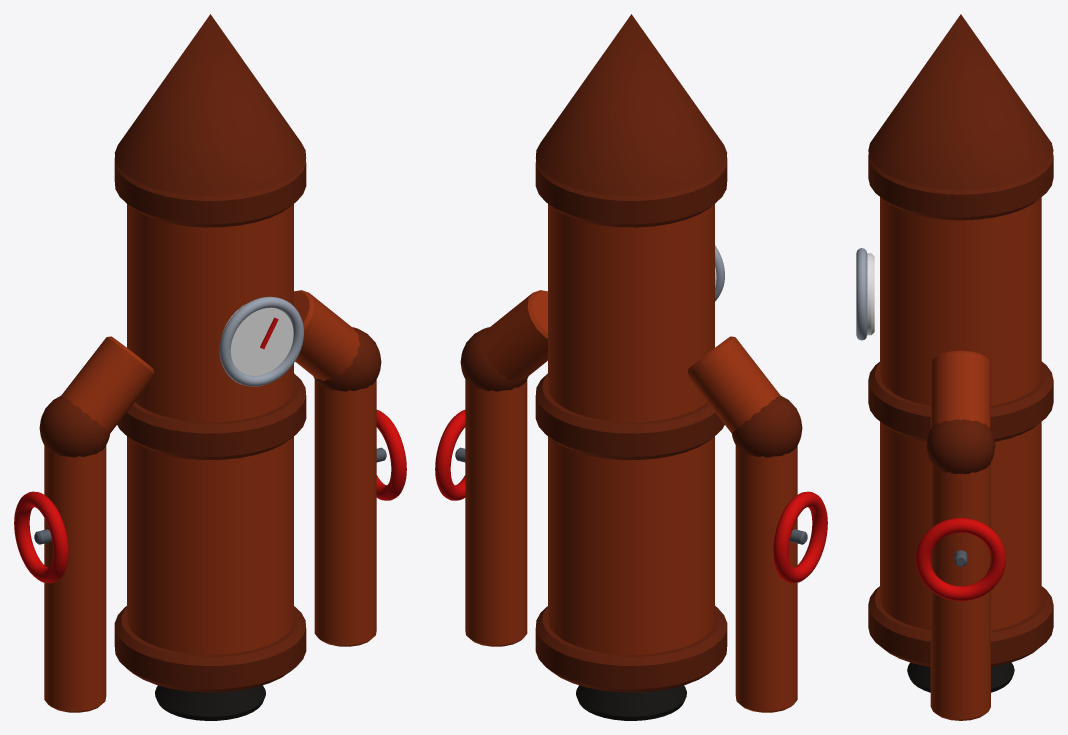
File: Rocket_09_PlumberPipes.obj
The picture shows the model from 3 angles, left to right: view 1: azimuth 30°, elevation 25°; view 2: azimuth 150°, elevation 25°; view 3: azimuth 270°, elevation 25°; orthographic projection. The views are drawn at different scales.
Visible parts, largest first — view 1: R09_Body, R09_Nose, R09_SidePipe, R09_SidePipe_2, R09_Coupler, R09_Coupler_2, R09_Coupler_3, R09_Elbow_2, R09_Elbow, R09_Gauge, R09_Joint_2, R09_Valve_2 (+4 smaller); view 2: R09_Body, R09_Nose, R09_SidePipe, R09_SidePipe_2, R09_Coupler, R09_Coupler_2, R09_Coupler_3, R09_Elbow_2, R09_Elbow, R09_Joint_2, R09_Valve_2, R09_Nozzle (+2 smaller); view 3: R09_Body, R09_Nose, R09_SidePipe, R09_Coupler_3, R09_Coupler, R09_Coupler_2, R09_Elbow, R09_Valve, R09_Joint, R09_GaugeRim, R09_Nozzle, R09_Gauge.
Boxes of the visible parts, <box> form: R09_Body: <box>127,204,293,654</box>; R09_Nose: <box>114,14,306,195</box>; R09_SidePipe: <box>314,379,376,646</box>; R09_SidePipe_2: <box>44,445,106,712</box>; R09_Coupler: <box>114,606,306,692</box>; R09_Coupler_2: <box>117,373,306,459</box>; R09_Coupler_3: <box>114,158,306,227</box>; R09_Elbow_2: <box>62,336,154,433</box>; R09_Elbow: <box>294,290,359,380</box>; R09_Gauge: <box>220,305,293,375</box>; R09_Joint_2: <box>39,395,109,457</box>; R09_Valve_2: <box>14,491,68,583</box>; R09_Body: <box>548,204,714,654</box>; R09_Nose: <box>535,14,727,195</box>; R09_SidePipe: <box>465,379,527,646</box>; R09_SidePipe_2: <box>735,445,797,712</box>; R09_Coupler: <box>535,606,727,692</box>; R09_Coupler_2: <box>535,373,724,459</box>; R09_Coupler_3: <box>535,158,727,227</box>; R09_Elbow_2: <box>687,336,779,433</box>; R09_Elbow: <box>482,290,547,380</box>; R09_Joint_2: <box>732,395,802,457</box>; R09_Valve_2: <box>773,491,827,583</box>; R09_Nozzle: <box>576,685,686,720</box>; R09_Body: <box>880,197,1041,630</box>; R09_Nose: <box>868,14,1053,189</box>; R09_SidePipe: <box>930,462,990,720</box>; R09_Coupler_3: <box>868,153,1053,220</box>; R09_Coupler: <box>868,586,1053,666</box>; R09_Coupler_2: <box>868,361,1053,441</box>; R09_Elbow: <box>930,350,990,429</box>; R09_Valve: <box>915,518,1005,601</box>; R09_Joint: <box>926,419,995,473</box>; R09_GaugeRim: <box>856,248,867,340</box>; R09_Nozzle: <box>907,662,1014,692</box>; R09_Gauge: <box>867,253,874,335</box>.
Size of the model in its own units: 3.64 by 6.77 by 1.83.
